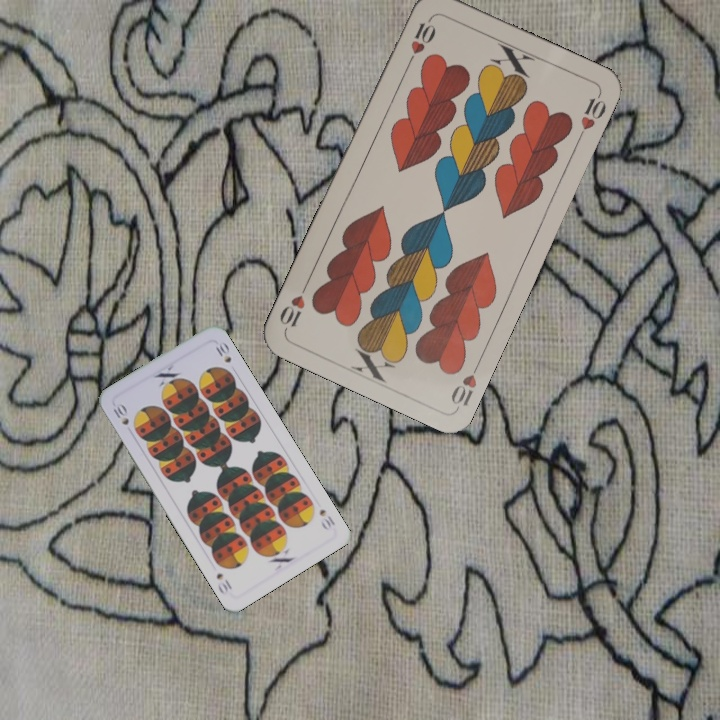H10: (447, 355, 484, 411), (403, 14, 438, 69)
S10: (109, 399, 132, 428), (315, 505, 338, 533)
